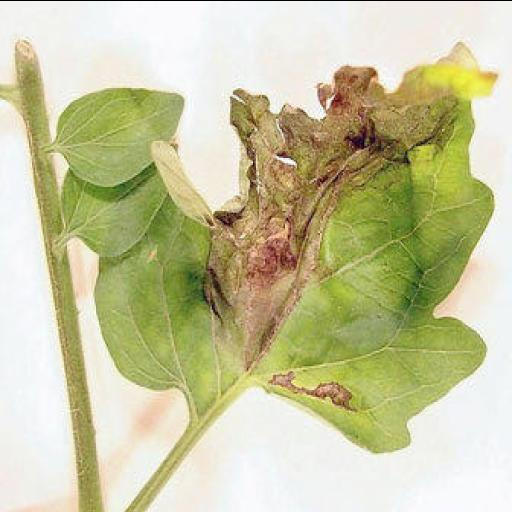disease_tomato: (90, 37, 496, 449)
